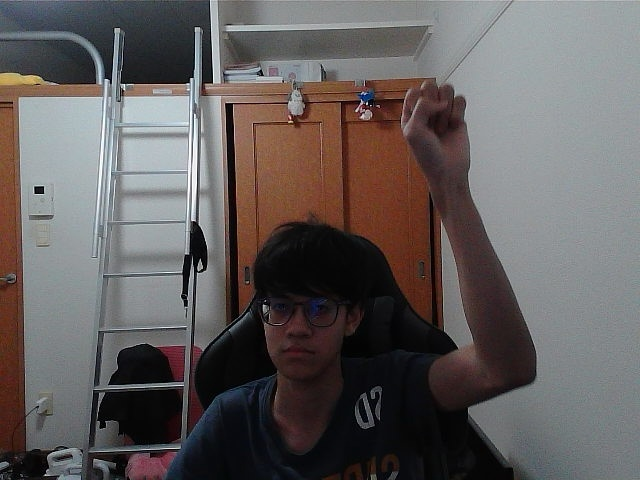closed_palm: (412, 84, 460, 170)
